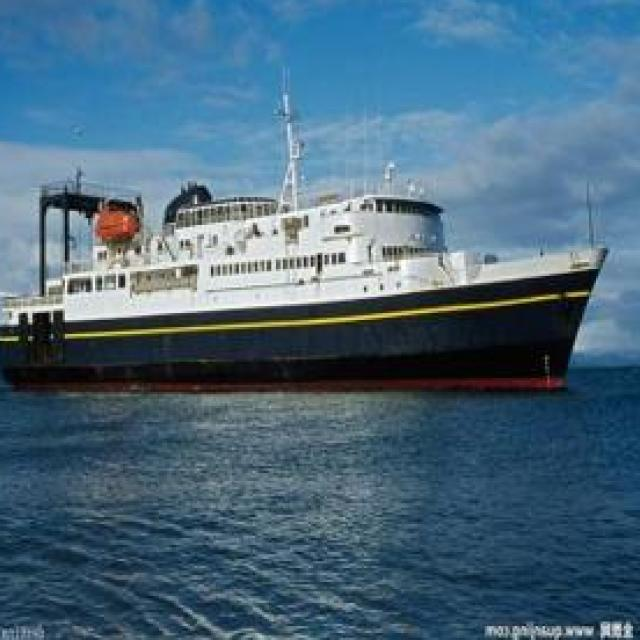cargoship: (7, 157, 616, 390)
